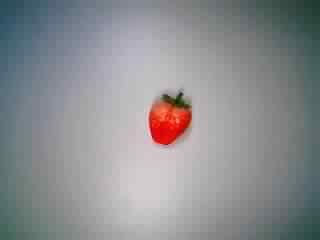strawberry: (136, 87, 202, 149)
